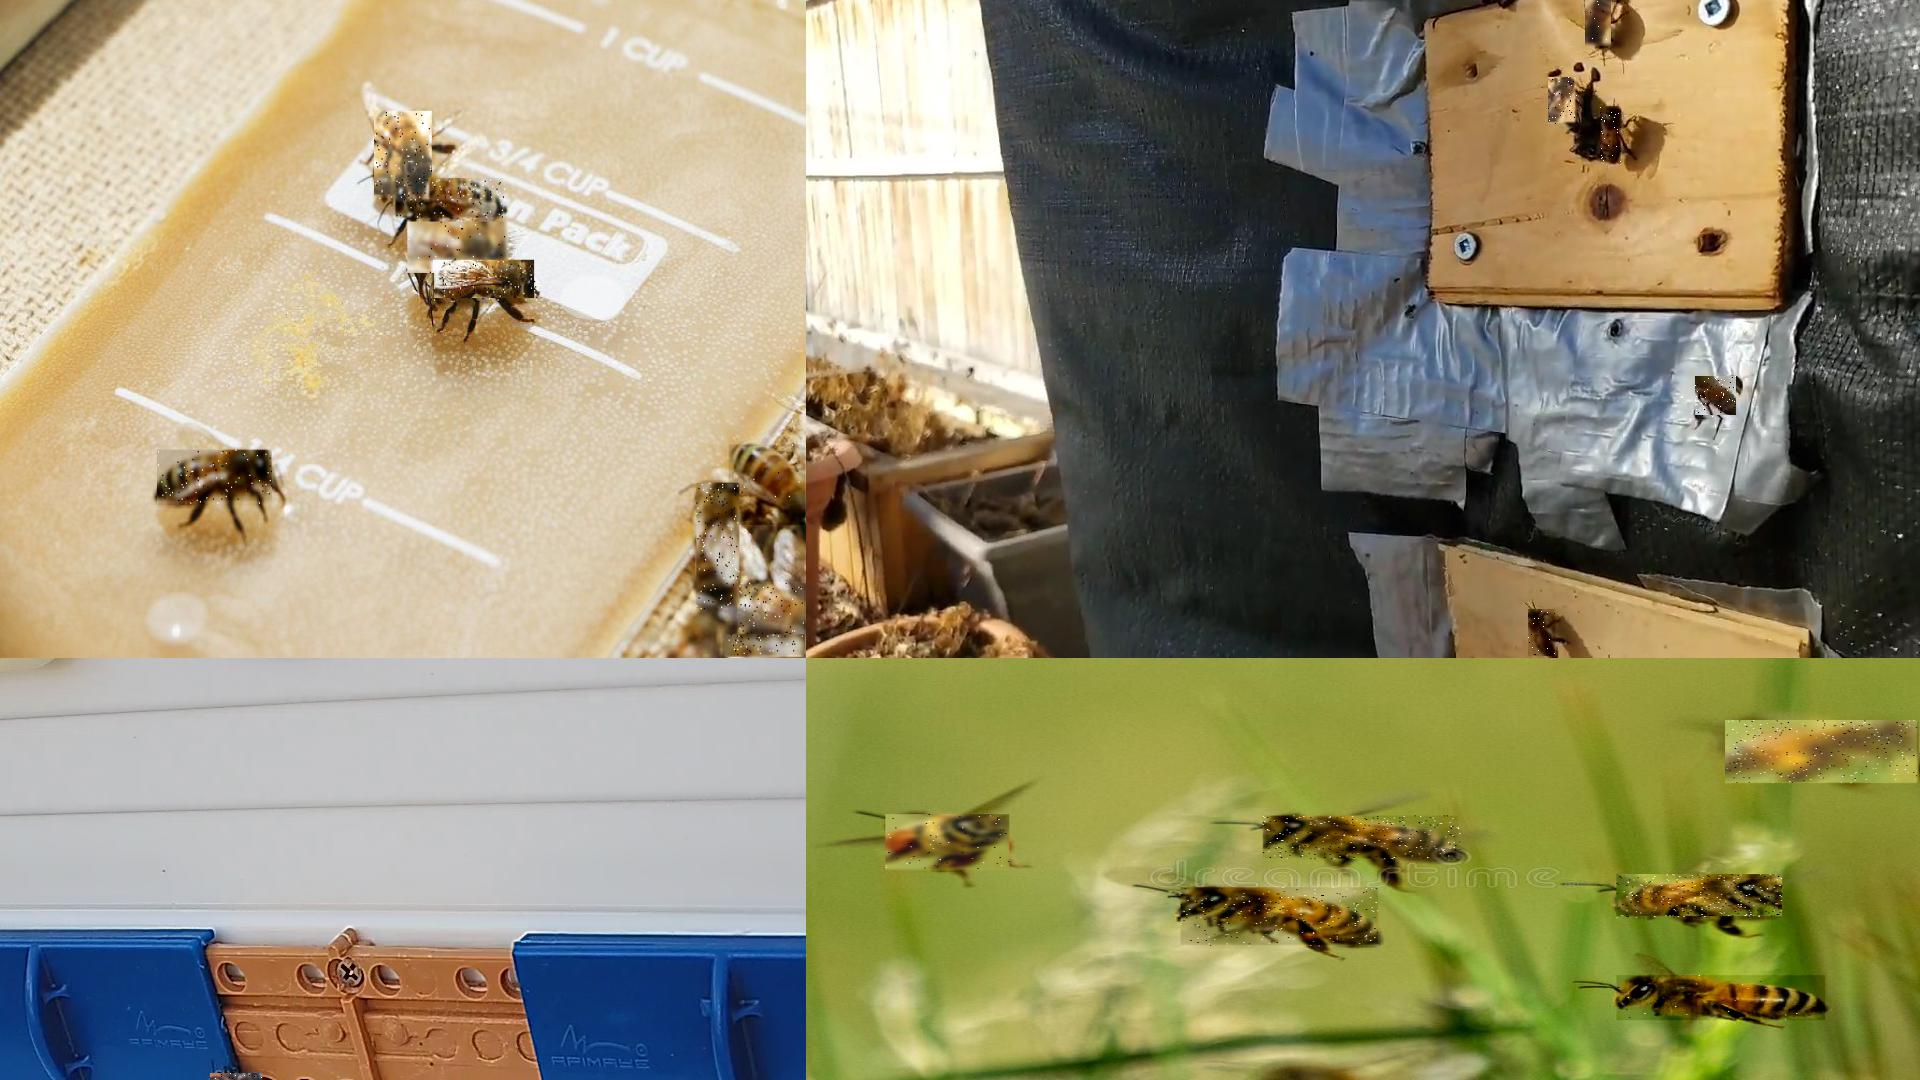bee: (1182, 887, 1379, 948), (1617, 976, 1828, 1021), (1265, 816, 1462, 860), (1617, 874, 1783, 919), (157, 450, 273, 506), (729, 444, 806, 527), (696, 484, 741, 612), (407, 222, 512, 274), (375, 112, 434, 202), (435, 261, 539, 305), (396, 178, 506, 219), (737, 582, 804, 637), (1696, 377, 1741, 419), (724, 634, 804, 657), (1549, 78, 1580, 127), (1528, 609, 1559, 657), (1584, 0, 1613, 49), (1600, 107, 1622, 164), (211, 1073, 266, 1079)
pollenbee: (1725, 720, 1919, 785), (885, 815, 1010, 872)
